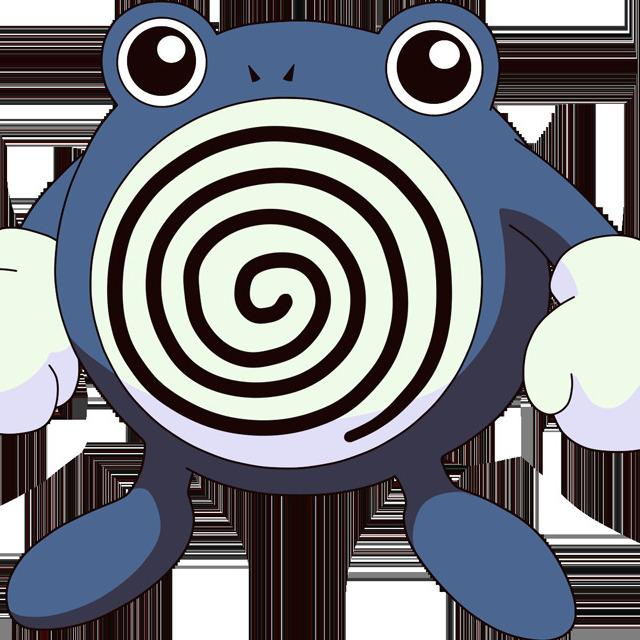Poliwhirl: (12, 11, 595, 608)
